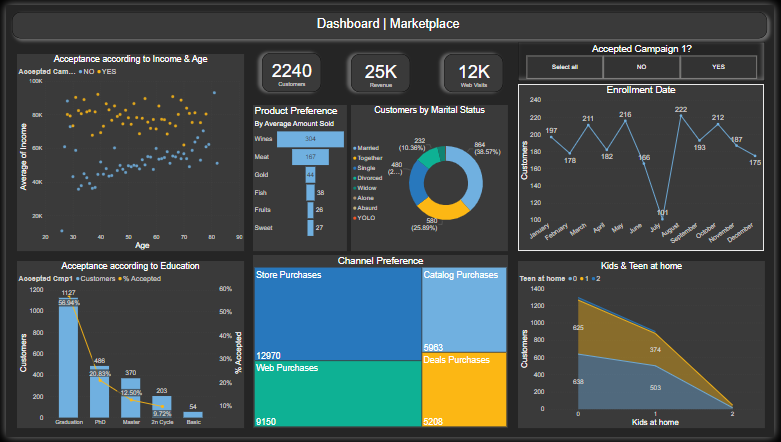

The page's visual inventory and layout, read from the dashboard file:
{"tool":"powerbi","page":{"name":"Marketplace","canvas":[2560,1440],"ordinal":0},"visuals":[{"type":"treemap","title":"Channel Preference","fields":{"Values":["Sum(marketing_campaign.NumCatalogPurchases)","Sum(marketing_campaign.NumDealsPurchases)","Sum(marketing_campaign.NumStorePurchases)","Sum(marketing_campaign.NumWebPurchases)"]},"box":[823.3,833.3,850,576.7],"z":0},{"type":"funnel","title":"Product Preference","fields":{"Y":["Avg(marketing_campaign.MntWines)","Avg(marketing_campaign.MntMeatProducts)","Avg(marketing_campaign.MntGoldProds)","Avg(marketing_campaign.MntFishProducts)","Avg(marketing_campaign.MntFruits)","Avg(marketing_campaign.MntSweetProducts)"]},"box":[823.3,333.3,313.3,486.7],"z":1000,"group":"g1"},{"type":"slicer","title":"Accepted Campaign 1?","fields":{"Values":["marketing_campaign.AcceptedCmp1"]},"box":[1706.7,123.3,823.3,130],"z":1000},{"type":"scatterChart","title":"Acceptance according to Income & Age","fields":{"X":["marketing_campaign.Age"],"Series":["marketing_campaign.AcceptedCmp1"],"Y":["Avg(marketing_campaign.Income)"]},"box":[36.7,163.3,756.7,656.7],"z":2000},{"type":"textbox","box":[823.3,376.6,290,43.3],"z":3000,"group":"g1"},{"type":"card","fields":{"Values":["DAX Measures.Num Customers"]},"box":[853.3,160,196.7,130],"z":3000},{"type":"donutChart","title":"Customers by Marital Status ","fields":{"Category":["marketing_campaign.Marital_Status"],"Y":["DAX Measures.Num Customers"]},"box":[1150,333.3,523.3,486.7],"z":4000},{"type":"card","fields":{"Values":["Sum(marketing_campaign.Z_Revenue)"]},"box":[1148.3,163.3,196.7,126.7],"z":5000},{"type":"lineClusteredColumnComboChart","title":"Acceptance according to Education","fields":{"Category":["marketing_campaign.Education"],"Y":["DAX Measures.Num Customers"],"Y2":["DAX Measures.Num Accepted"]},"box":[36.7,853.3,756.7,556.7],"z":7000},{"type":"lineChart","title":"Enrollment Date","fields":{"Category":["marketing_campaign.Dt_Customer.Variation.Date Hierarchy.Month"],"Y":["CountNonNull(marketing_campaign.X ID)"]},"box":[1706.7,263.3,820,556.7],"z":8000},{"type":"textbox","box":[19.8,22.7,2517.2,87.9],"z":9000},{"type":"stackedAreaChart","title":"Kids & Teen at home","fields":{"Category":["marketing_campaign.Kidhome"],"Y":["DAX Measures.Num Customers"],"Series":["marketing_campaign.Teenhome"]},"box":[1706.7,853.3,823.3,556.7],"z":10000},{"type":"card","fields":{"Values":["Sum(marketing_campaign.NumWebVisitsMonth)"]},"box":[1460,163.3,196.7,126.7],"z":11000},{"type":"group","id":"g1","title":"Group 1","box":[823.3,333.3,313.3,486.7],"z":12000}]}

Visuals, with their boxes in screenshot pixels (x1, y1, x2, y2), scaled from the page's 2560x1440 canvas onto the 781x442 screenshot:
"Channel Preference" treemap: <region>251, 256, 510, 433</region>
"Product Preference" funnel: <region>251, 102, 347, 252</region>
"Accepted Campaign 1?" slicer: <region>521, 38, 772, 78</region>
"Acceptance according to Income & Age" scatterChart: <region>11, 50, 242, 252</region>
textbox: <region>251, 116, 340, 129</region>
card - DAX Measures.Num Customers: <region>260, 49, 320, 89</region>
"Customers by Marital Status " donutChart: <region>351, 102, 510, 252</region>
card - Sum(marketing_campaign.Z_Revenue): <region>350, 50, 410, 89</region>
"Acceptance according to Education" lineClusteredColumnComboChart: <region>11, 262, 242, 433</region>
"Enrollment Date" lineChart: <region>521, 81, 771, 252</region>
textbox: <region>6, 7, 774, 34</region>
"Kids & Teen at home" stackedAreaChart: <region>521, 262, 772, 433</region>
card - Sum(marketing_campaign.NumWebVisitsMonth): <region>445, 50, 505, 89</region>
"Group 1" group: <region>251, 102, 347, 252</region>
